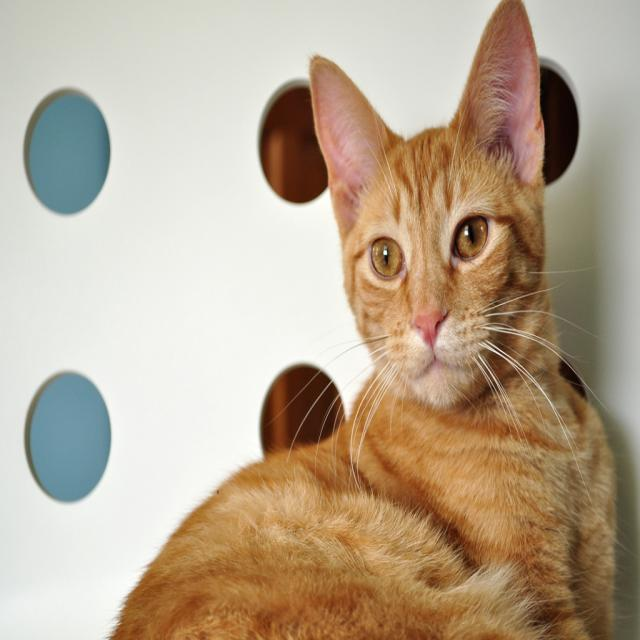Cat: (100, 0, 635, 639)
